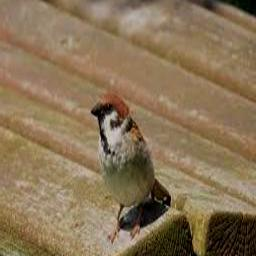Sparrow: (91, 95, 171, 241)
